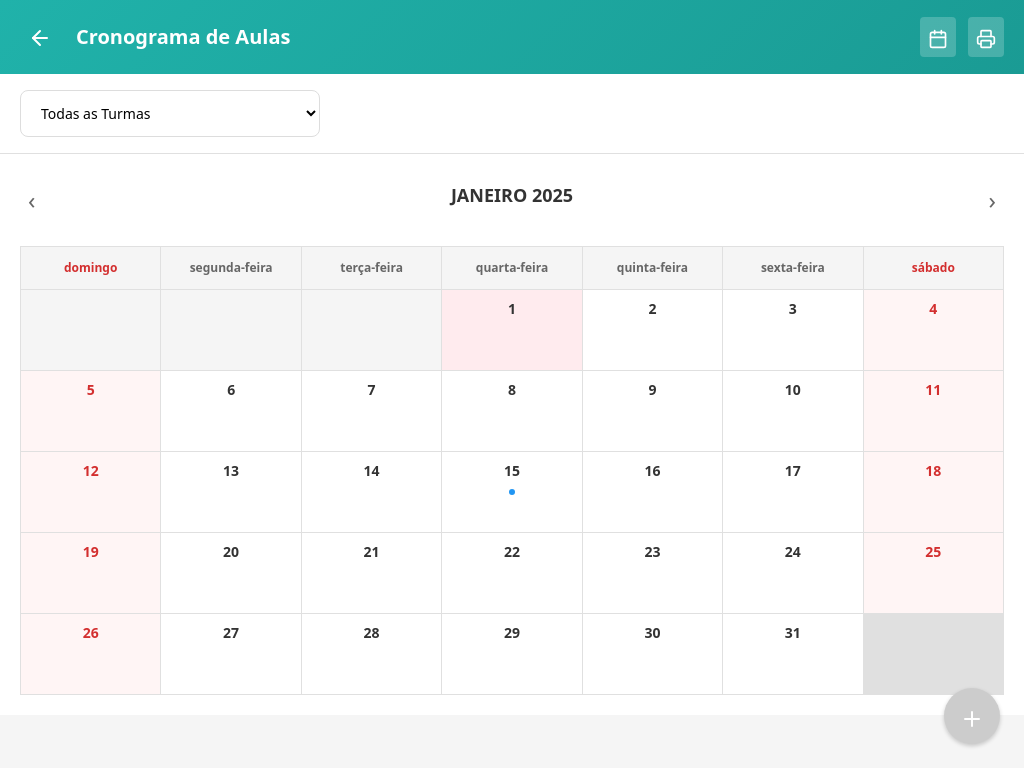
it: CronogramaPage › navega entre meses
Expected: the heading "JANEIRO 2025" is shown, [451, 185, 573, 206]
What coordinates should you click on to do the following:
click the button "›"
I would click on:
 (992, 200)
Its box is [980, 174, 1004, 226].
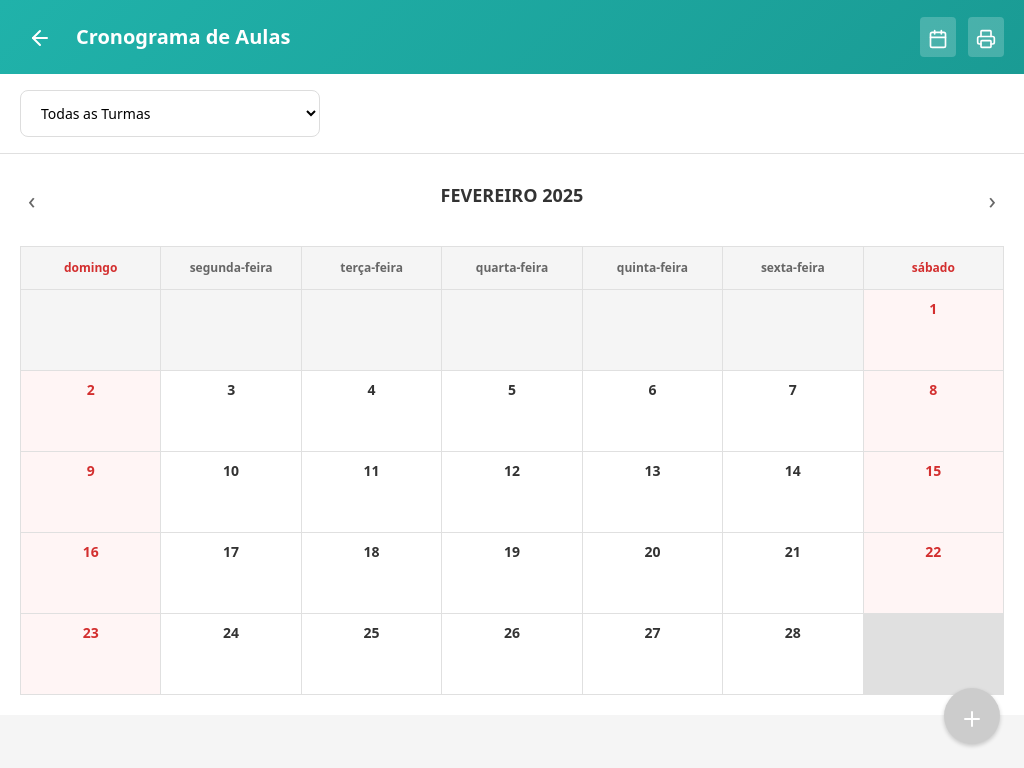
Now the heading "FEVEREIRO 2025" is shown, box [441, 185, 583, 206]
